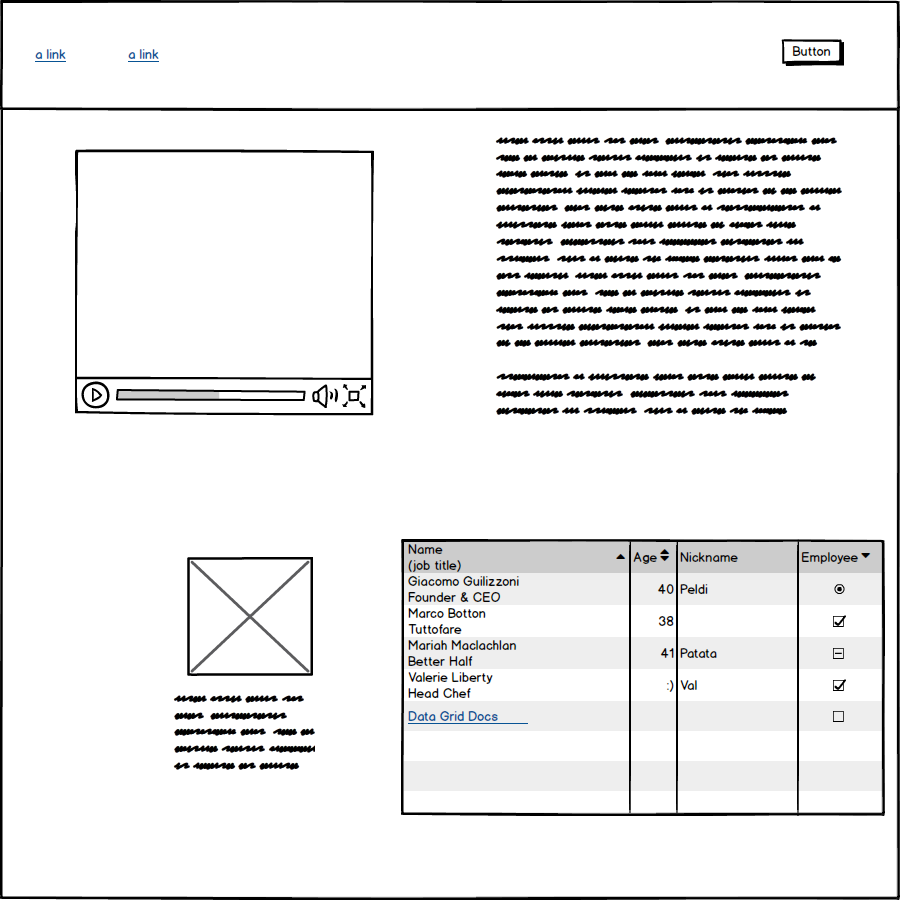button: (776, 30, 853, 71)
image: (182, 548, 323, 681)
navlink: (123, 38, 161, 69), (27, 43, 71, 66)
p: (483, 128, 859, 426), (170, 689, 335, 778)
table: (393, 530, 889, 819)
video: (68, 143, 382, 423)
